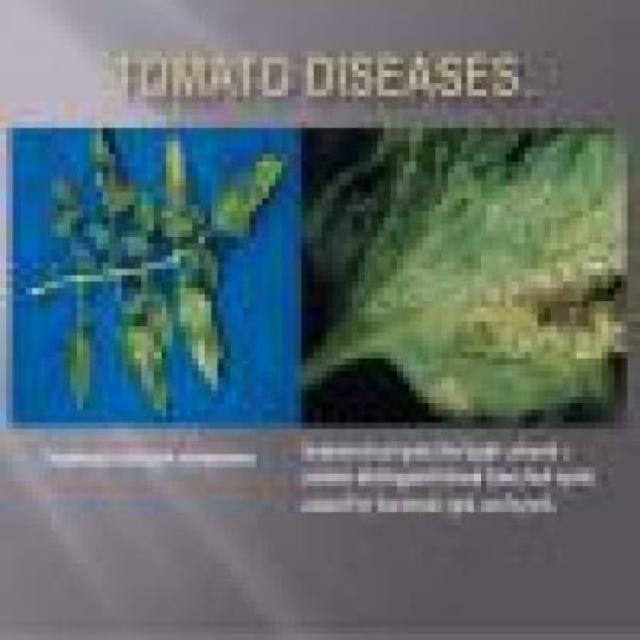Septoria leaf spot: (314, 135, 620, 423), (210, 148, 288, 249), (116, 320, 192, 415), (166, 275, 225, 391), (154, 135, 198, 251)
